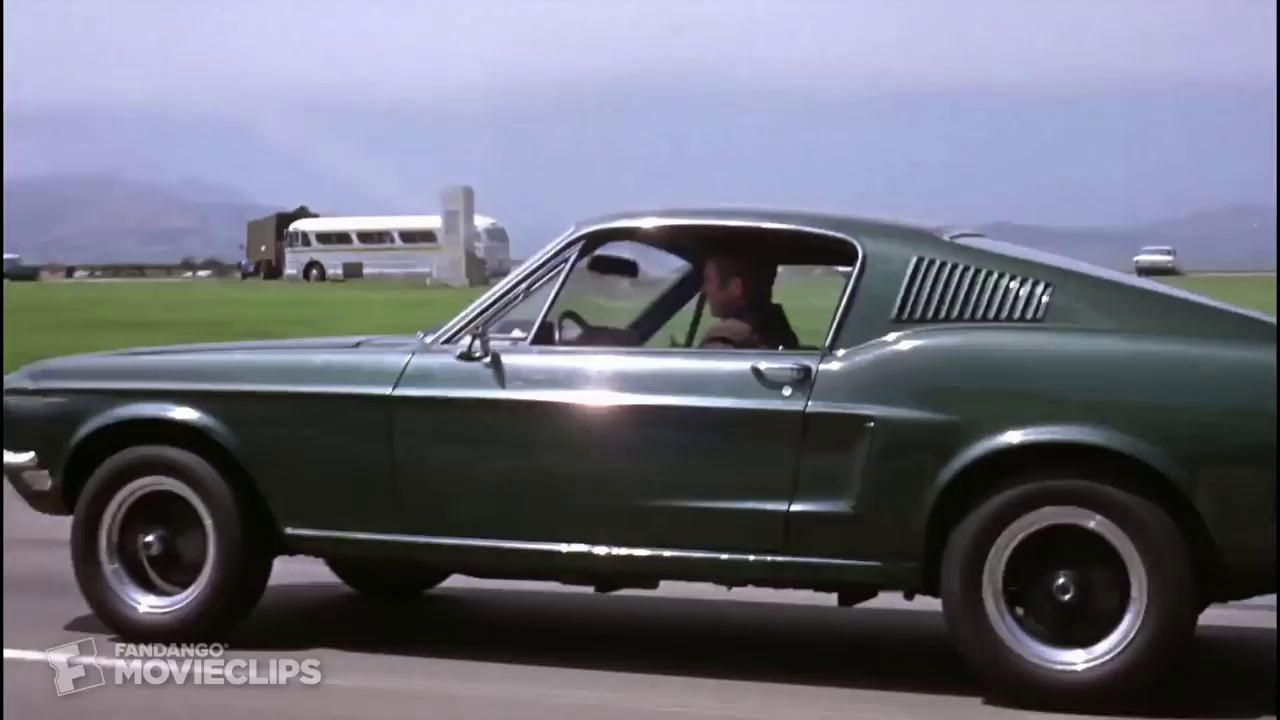bus: (279, 210, 514, 286)
car: (5, 207, 1280, 708), (1126, 240, 1185, 281)
person: (685, 231, 794, 362)
truck: (233, 202, 328, 287)
